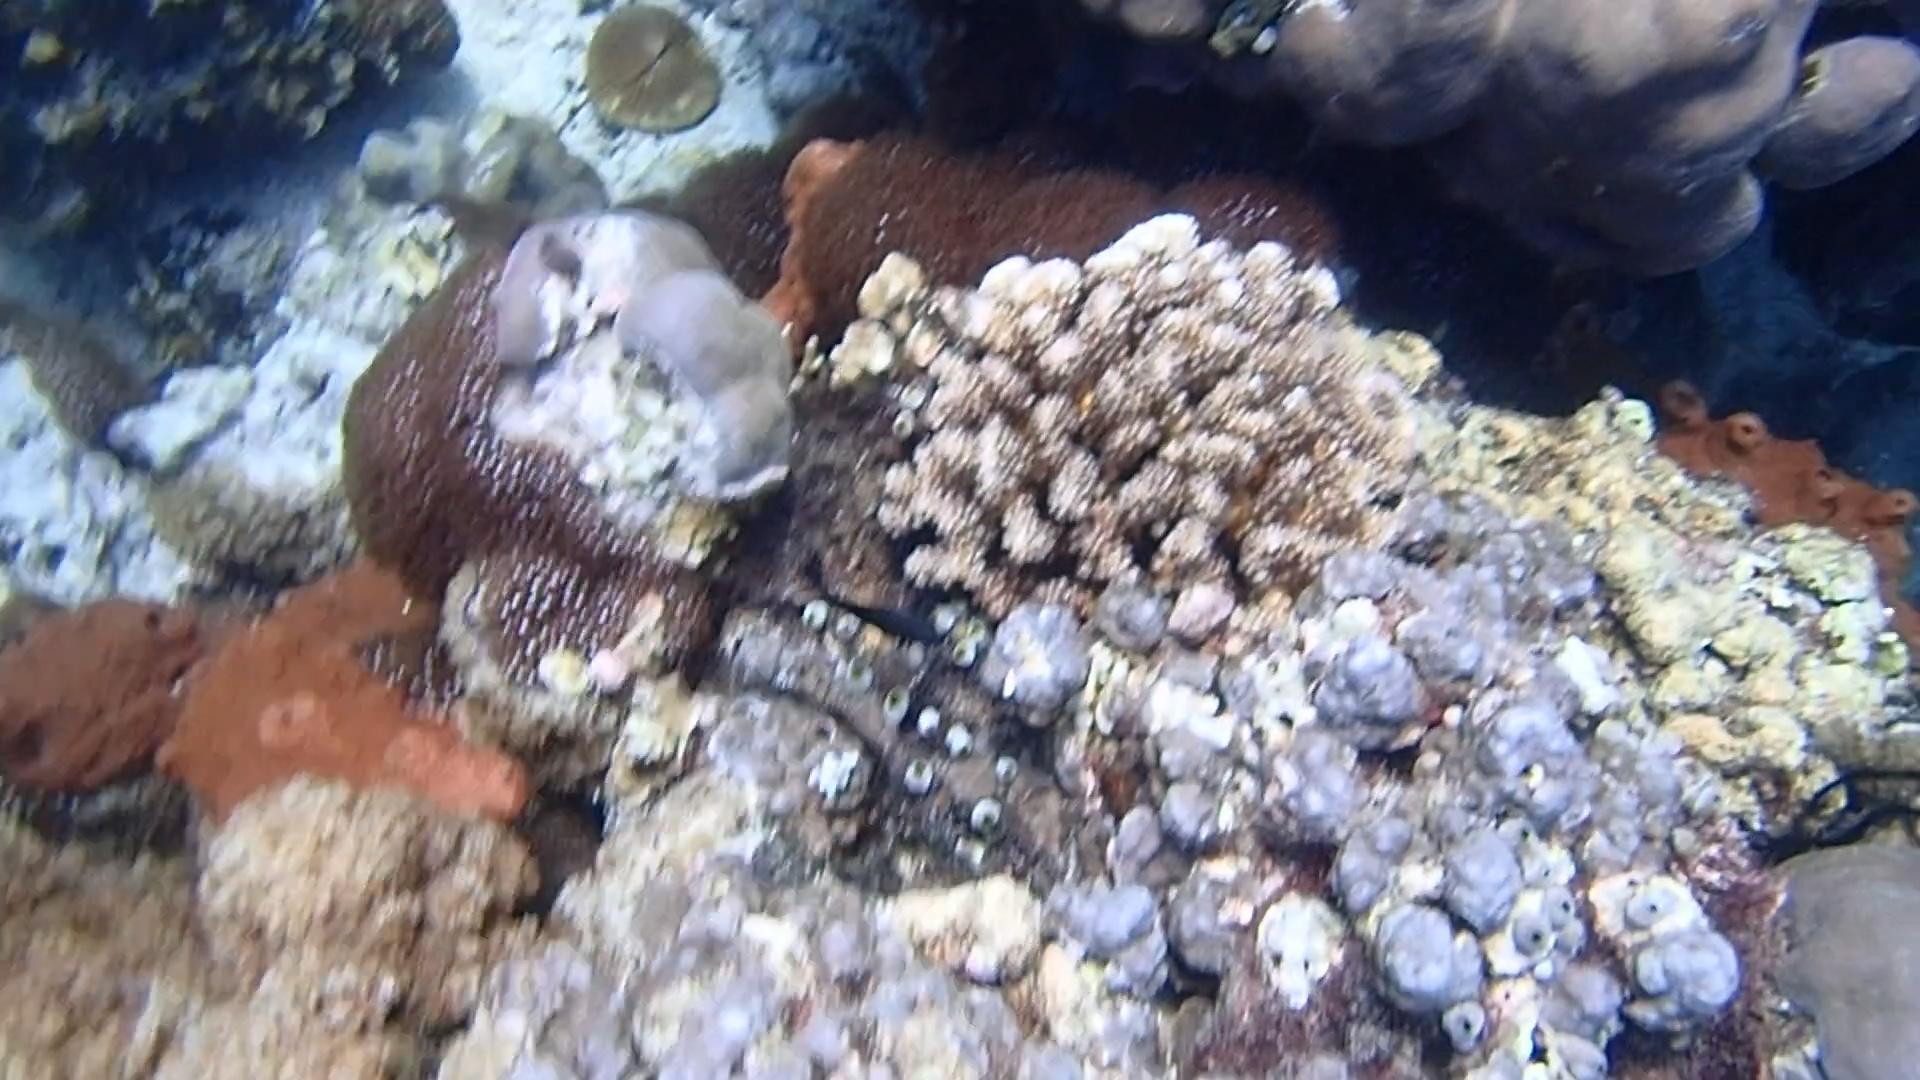Dark Fish: (820, 578, 960, 659)
